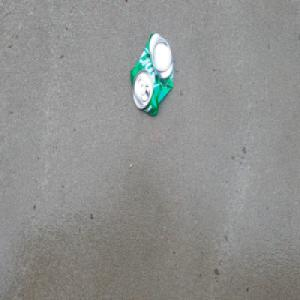SodaCan: (128, 30, 176, 118)
